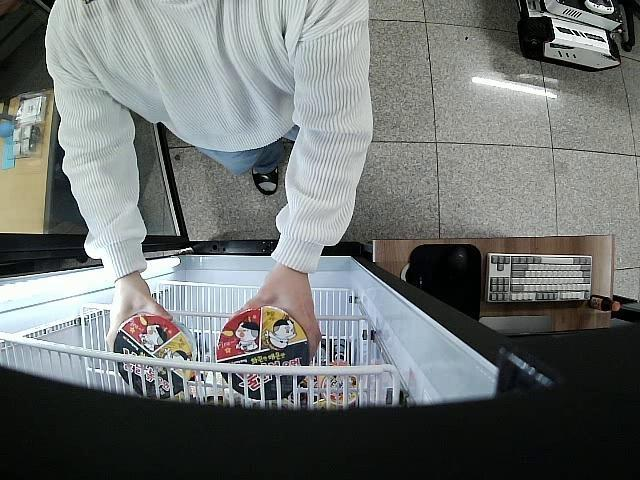07_buldak_L: (216, 308, 311, 399), (112, 314, 199, 397)
